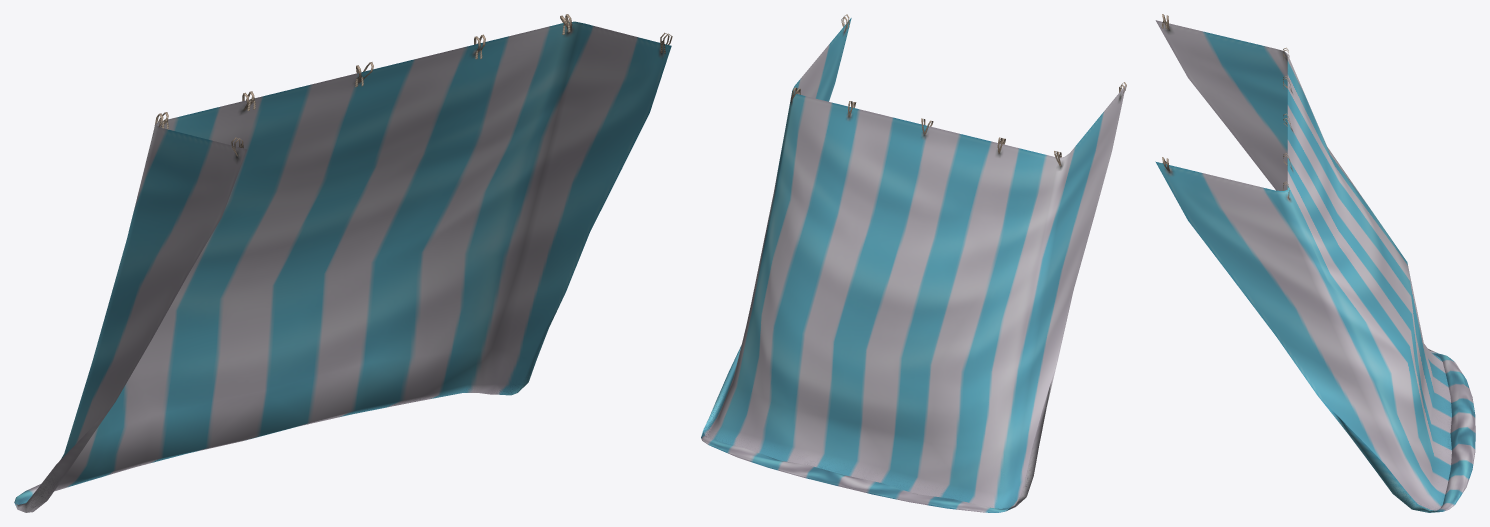
File: jsf_BackSide_s01_c02_t02.fbx
3 renders of one model, left to right at view 1: azimuth 30°, elevation 25°; view 2: azimuth 150°, elevation 25°; view 3: azimuth 270°, elevation 25°, orthographic. The views are drawn at different scales.
Parts seen in each view (by area): view 1: jsf_BackSide_s01_c02_t02; view 2: jsf_BackSide_s01_c02_t02; view 3: jsf_BackSide_s01_c02_t02.
Boxes of the visible parts, x1=… form: jsf_BackSide_s01_c02_t02: x1=14, y1=14, x2=672, y2=512; jsf_BackSide_s01_c02_t02: x1=701, y1=14, x2=1126, y2=512; jsf_BackSide_s01_c02_t02: x1=1155, y1=14, x2=1475, y2=512.
Bounding box in the file's own units: 207 × 205 × 171.
